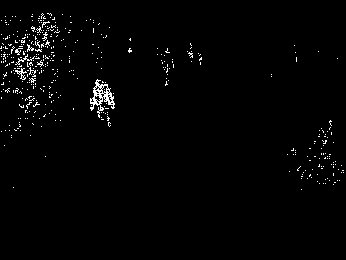person: (86, 78, 117, 129)
